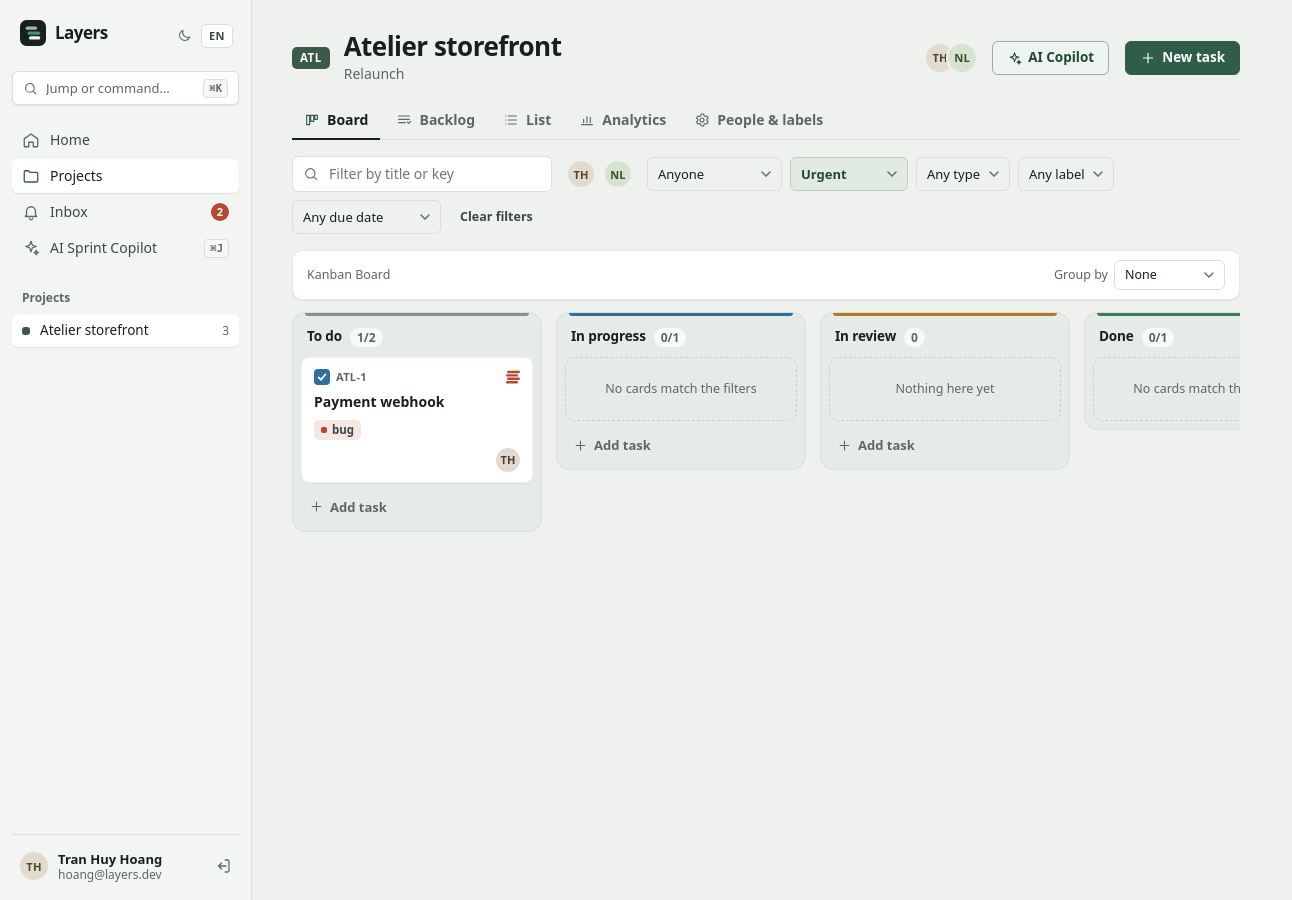
Test: Project page › renders the board and filters it from the URL
The width and height of the screenshot is (1292, 900).
Expected: the text "Payment webhook" is shown, [314,392,444,411]
Expected: the text "Size guide" is not shown
Click the button "Clear filters" at (496, 218), box [449,204,544,232]
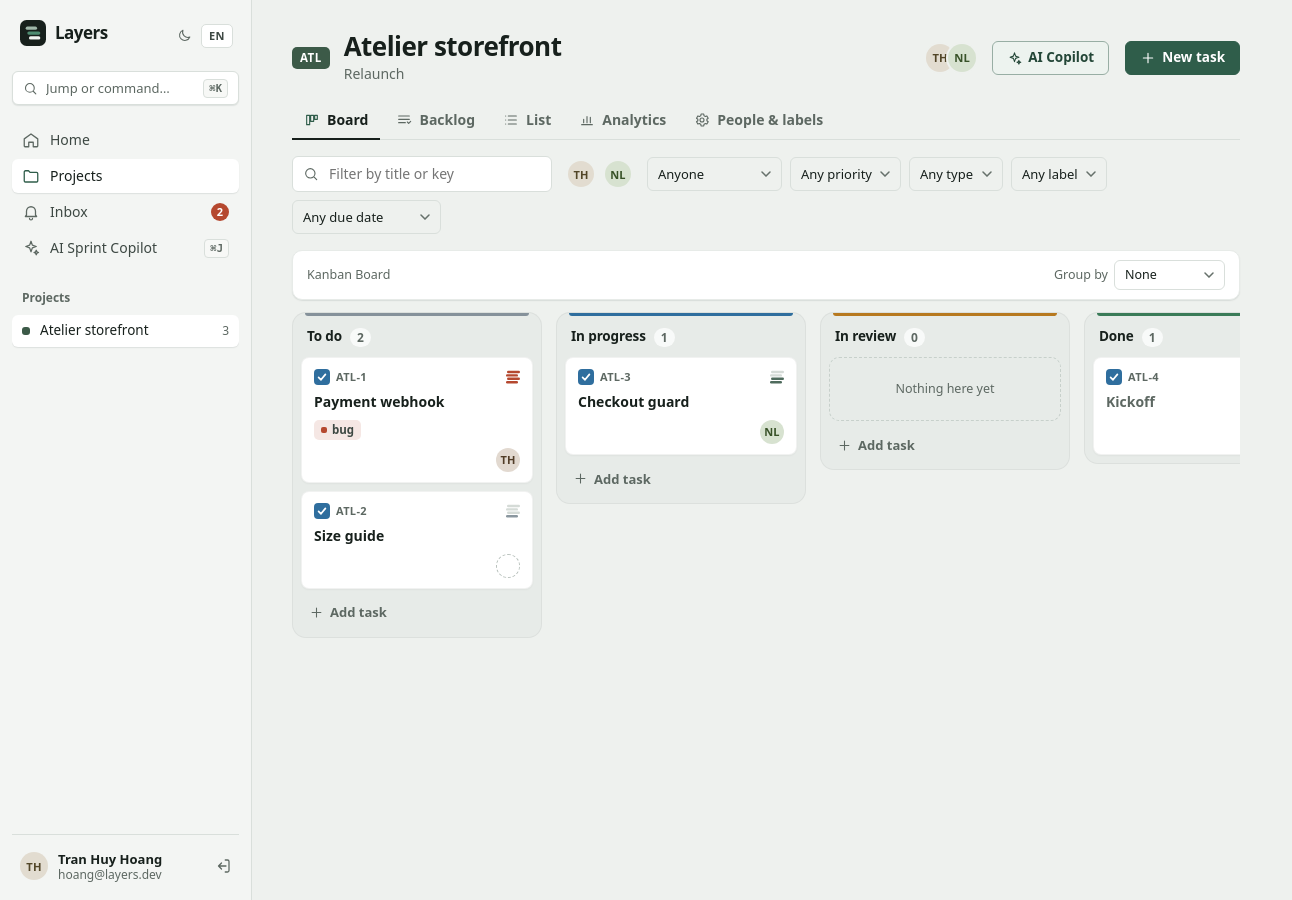
Expected: the text "Size guide" is shown, [314,526,384,545]
